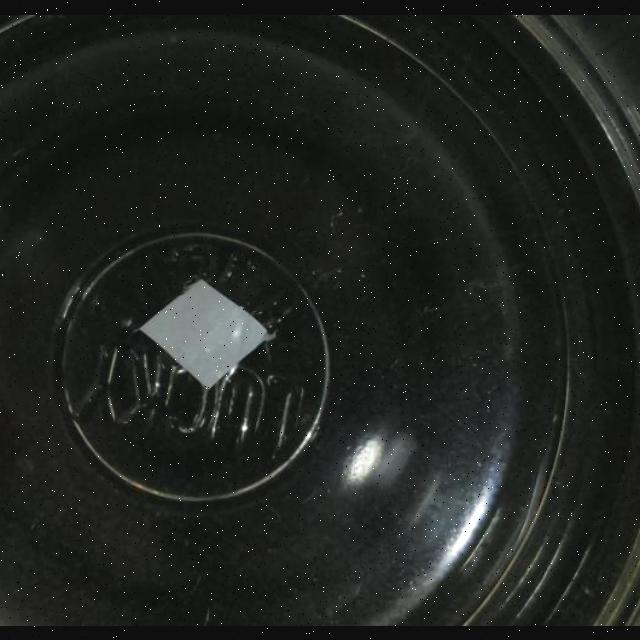Fragment: (136, 274, 278, 392)
